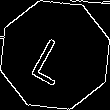L_NE: (29, 25, 81, 85)
